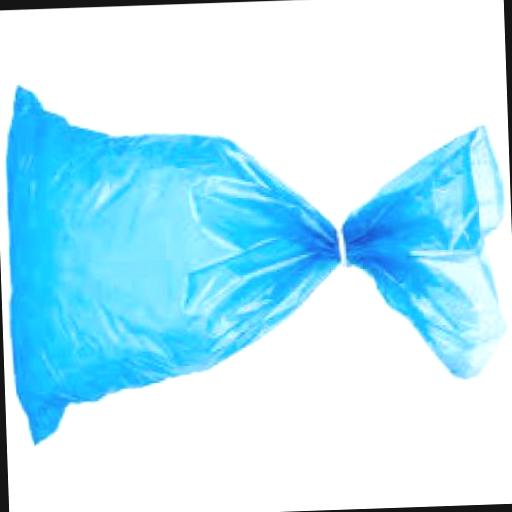plastic: (5, 64, 512, 441)
